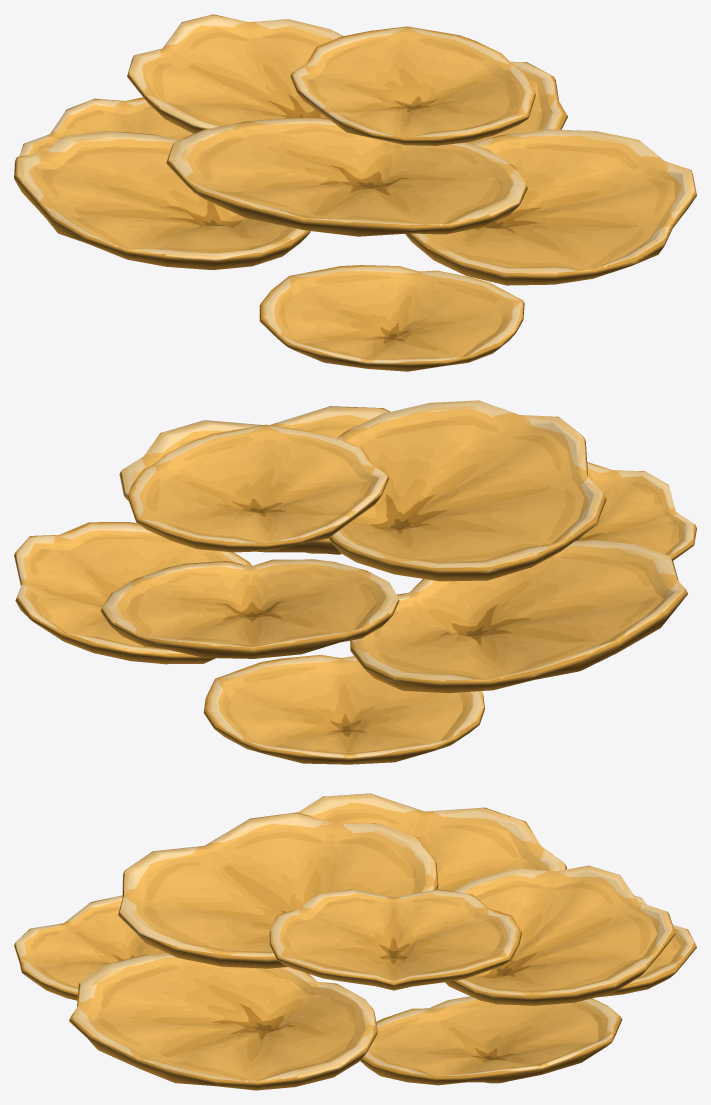
Rendered from FlatMushroom.fbx.
3 renders of one model, top to bottom at view 1: azimuth 30°, elevation 25°; view 2: azimuth 150°, elevation 25°; view 3: azimuth 270°, elevation 25°, orthographic. The views are drawn at different scales.
Parts seen in each view (by area): view 1: FlatMushroom; view 2: FlatMushroom; view 3: FlatMushroom.
Part boxes in pixels (left/top/right/bottom): FlatMushroom: left=14, top=14, right=696, bottom=371; FlatMushroom: left=14, top=400, right=696, bottom=764; FlatMushroom: left=14, top=793, right=696, bottom=1090.
Bounding box in the file's own units: 0.9251 × 0.2058 × 1.02.
